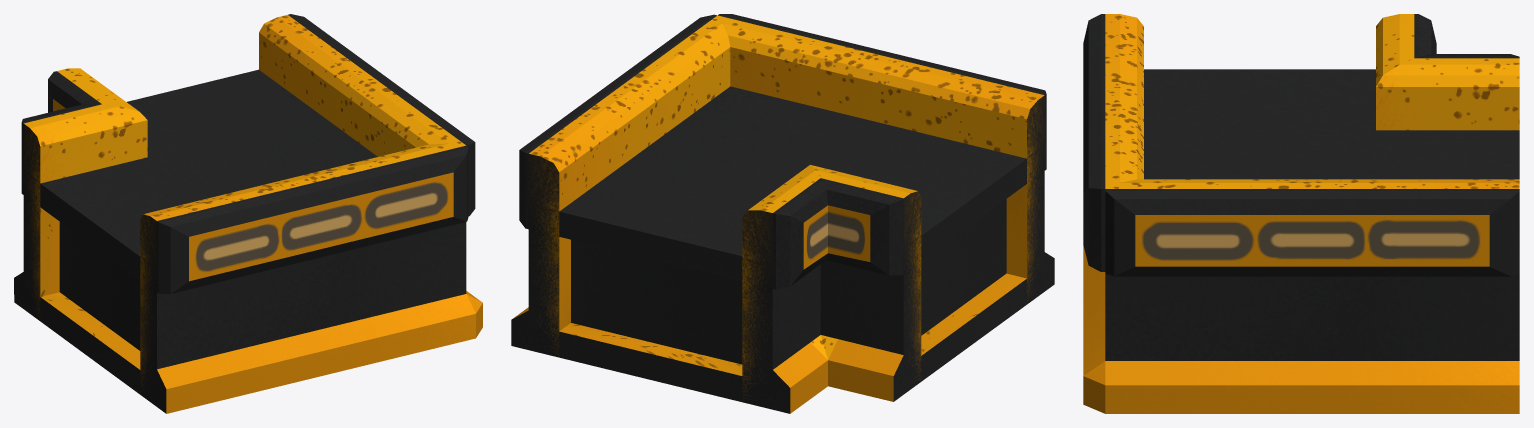
File: conveyorAngle.fbx
3 renders of one model, left to right at view 1: azimuth 30°, elevation 25°; view 2: azimuth 150°, elevation 25°; view 3: azimuth 270°, elevation 25°, orthographic. The views are drawn at different scales.
Visible parts, largest first — view 1: Cube.004; view 2: Cube.004; view 3: Cube.004.
Part boxes in pixels (left/top/right/bottom): Cube.004: left=14, top=14, right=482, bottom=413; Cube.004: left=511, top=14, right=1054, bottom=413; Cube.004: left=1083, top=14, right=1519, bottom=413.
Bounding box in the file's own units: 168 × 91.59 × 168.
